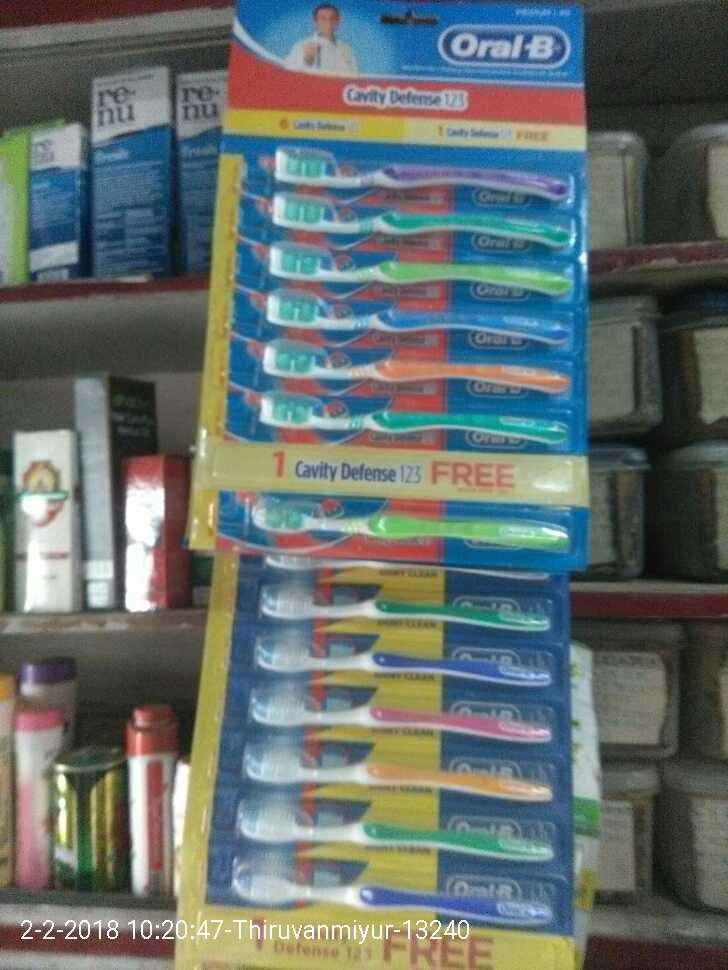oralb: (261, 182, 593, 241), (261, 242, 593, 301), (252, 287, 584, 346), (261, 333, 593, 392), (252, 397, 584, 456), (238, 497, 570, 556), (250, 573, 582, 632), (249, 625, 581, 684), (245, 683, 577, 742), (253, 741, 585, 800), (237, 796, 569, 855), (231, 859, 563, 918)
